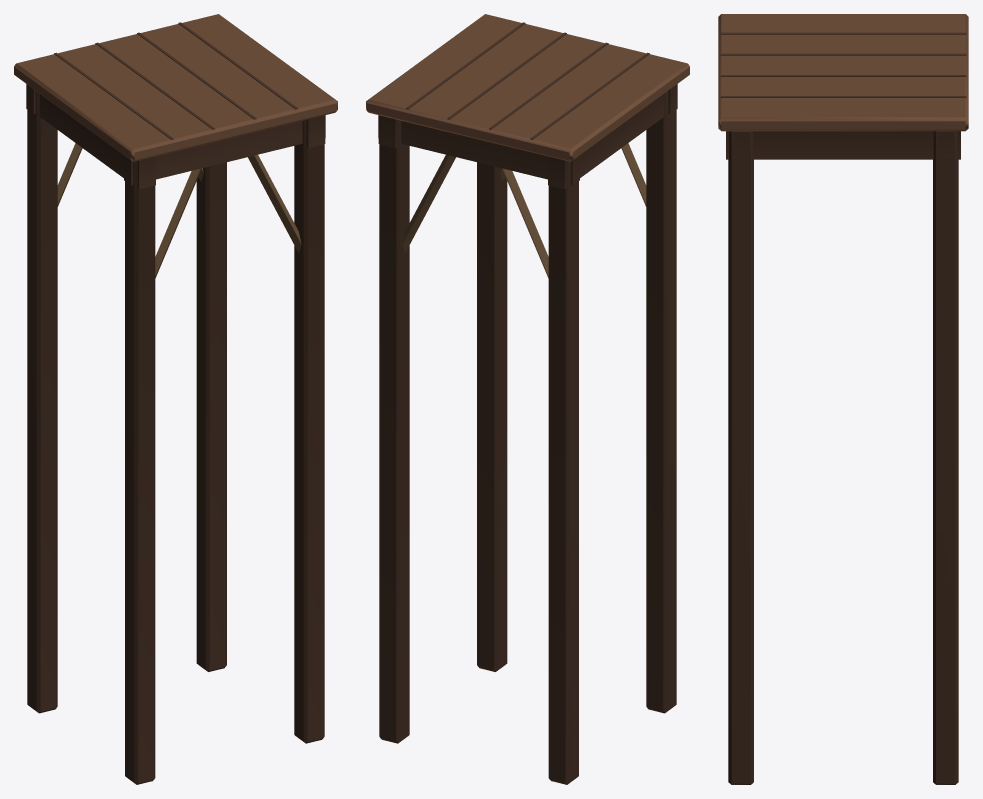
The model's file is qb_landing_wood.glb.
3 views of the same model, side by side, from view 1: azimuth 30°, elevation 25°; view 2: azimuth 150°, elevation 25°; view 3: azimuth 270°, elevation 25° (orthographic). The views are drawn at different scales.
Parts seen in each view (by area): view 1: qb_landing_wood; view 2: qb_landing_wood; view 3: qb_landing_wood.
Boxes of the visible parts, left/top/right/bottom form: qb_landing_wood: left=14, top=14, right=337, bottom=784; qb_landing_wood: left=366, top=14, right=689, bottom=784; qb_landing_wood: left=718, top=14, right=968, bottom=784.
Bounding box in the file's own units: 0.98 × 2.9 × 0.98.
